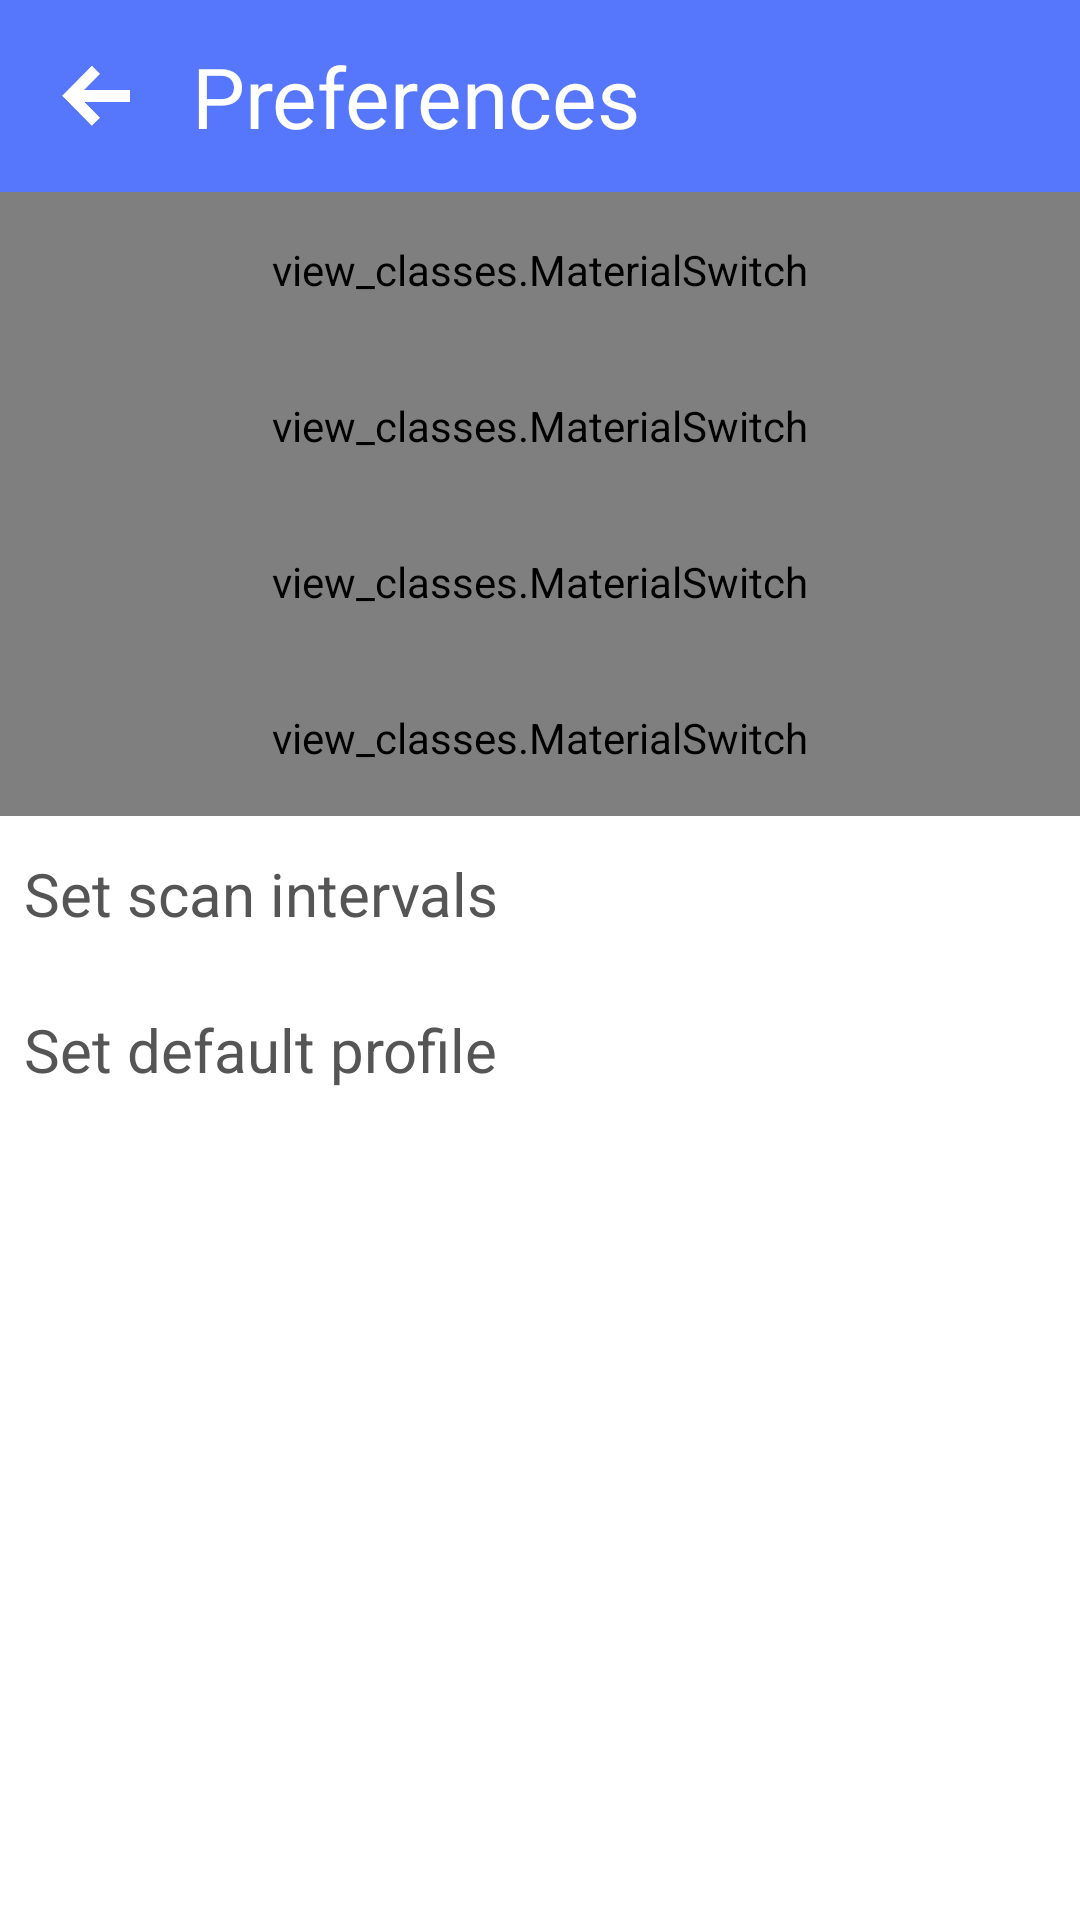

Locate icon controls on the screen. Image size 1080*1920, boxes as (x1, y1, x2, y2).
back: (62, 66, 130, 126)
